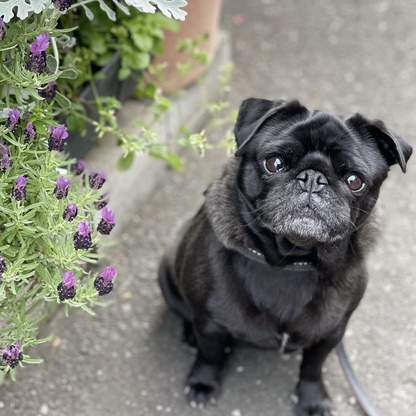Pug: (154, 91, 416, 416)
